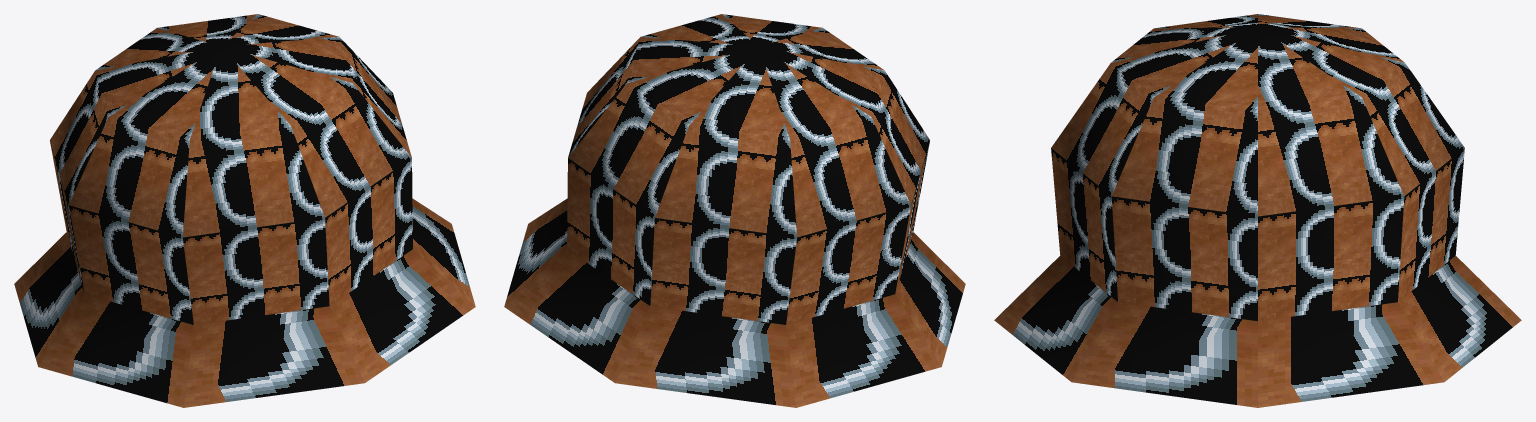
3 views of the same model, side by side, from view 1: azimuth 30°, elevation 25°; view 2: azimuth 150°, elevation 25°; view 3: azimuth 270°, elevation 25° (orthographic). The views are drawn at different scales.
Parts seen in each view (by area): view 1: ef_676; view 2: ef_676; view 3: ef_676.
Part boxes in pixels (x1,y1,x2,y2): ef_676: (14,14,475,407); ef_676: (504,14,965,407); ef_676: (994,14,1521,407).
Bounding box in the file's own units: 0.4189 × 0.2671 × 0.4209.
1 material, 1 textured.
